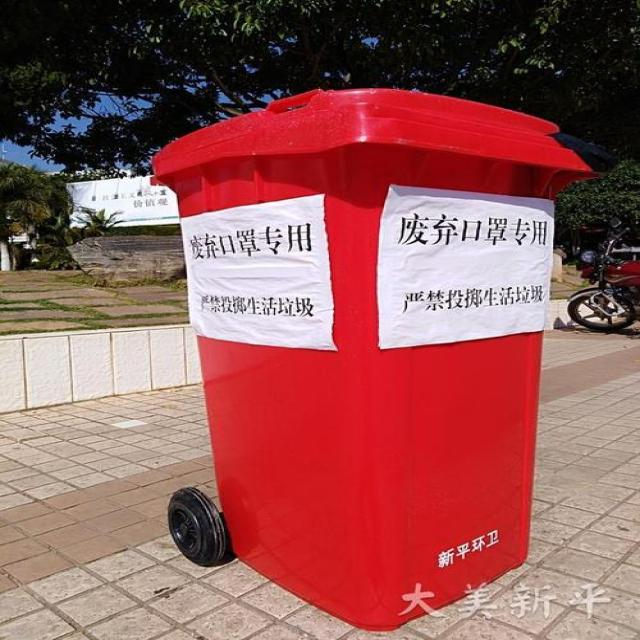garbage_bin: (150, 87, 589, 631)
